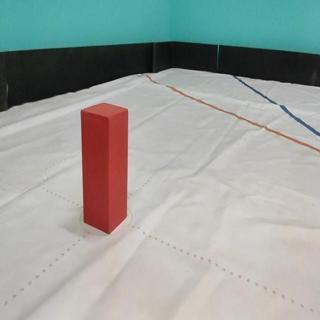redbox: (81, 101, 128, 235)
